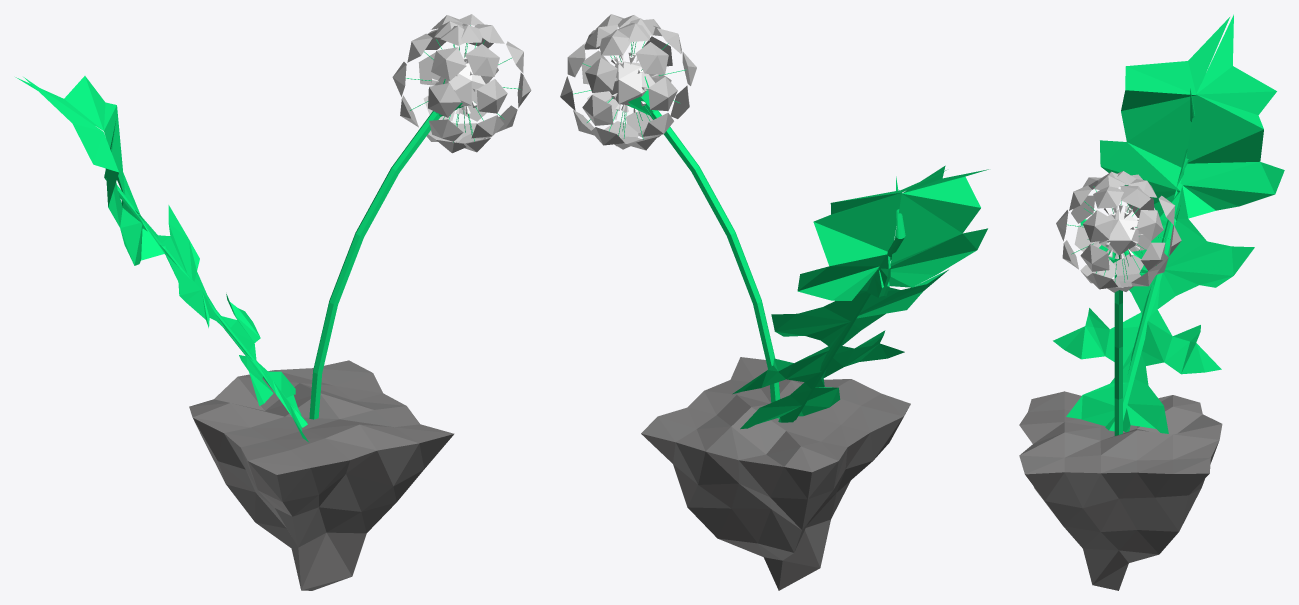
File: pusteblume_keine_partikel.fbx
3 renders of one model, left to right at view 1: azimuth 30°, elevation 25°; view 2: azimuth 150°, elevation 25°; view 3: azimuth 270°, elevation 25°, orthographic. The views are drawn at different scales.
Parts seen in each view (by area): view 1: Pyramide, blatt_1, Zylinder_1, Platonischer_Körper, Kegel_1_20, Kegel_1_11, Kegel_1_21, Kegel_1_30; view 2: Pyramide, blatt_1, Zylinder_1, Platonischer_Körper, Kegel_1_24, Kegel_1, Kegel_1_10, Kegel_1_25, Kegel_1_23; view 3: blatt_1, Pyramide, Zylinder_1, Platonischer_Körper, Kegel_1_4, Kegel_1_14, Kegel_1_5, Kegel_1_3, Kegel_1_13, Kegel_1_8, Kegel_1_15, Kegel_1_20.
Part boxes in pixels (bbox=[...]): Pyramide: bbox=[189, 360, 454, 590]; blatt_1: bbox=[15, 76, 308, 442]; Zylinder_1: bbox=[309, 111, 440, 419]; Platonischer_Körper: bbox=[435, 62, 485, 106]; Kegel_1_20: bbox=[428, 83, 461, 117]; Kegel_1_11: bbox=[431, 47, 466, 80]; Kegel_1_21: bbox=[466, 44, 499, 76]; Kegel_1_30: bbox=[476, 79, 507, 113]; Pyramide: bbox=[641, 357, 910, 590]; blatt_1: bbox=[732, 165, 988, 429]; Zylinder_1: bbox=[649, 110, 780, 418]; Platonischer_Körper: bbox=[609, 61, 654, 105]; Kegel_1_24: bbox=[585, 57, 617, 92]; Kegel_1: bbox=[635, 42, 668, 74]; Kegel_1_10: bbox=[648, 76, 677, 111]; Kegel_1_25: bbox=[582, 95, 613, 125]; Kegel_1_23: bbox=[599, 29, 630, 55]; blatt_1: bbox=[1053, 14, 1284, 433]; Pyramide: bbox=[1019, 391, 1222, 590]; Zylinder_1: bbox=[1114, 253, 1122, 435]; Platonischer_Körper: bbox=[1099, 209, 1138, 255]; Kegel_1_4: bbox=[1083, 210, 1113, 242]; Kegel_1_14: bbox=[1137, 210, 1163, 240]; Kegel_1_5: bbox=[1080, 244, 1109, 271]; Kegel_1_3: bbox=[1093, 186, 1123, 208]; Kegel_1_13: bbox=[1120, 185, 1150, 208]; Kegel_1_8: bbox=[1113, 254, 1143, 275]; Kegel_1_15: bbox=[1140, 242, 1165, 270]; Kegel_1_20: bbox=[1071, 195, 1094, 223].
Bounding box in the file's own units: 506 × 589 × 294.
